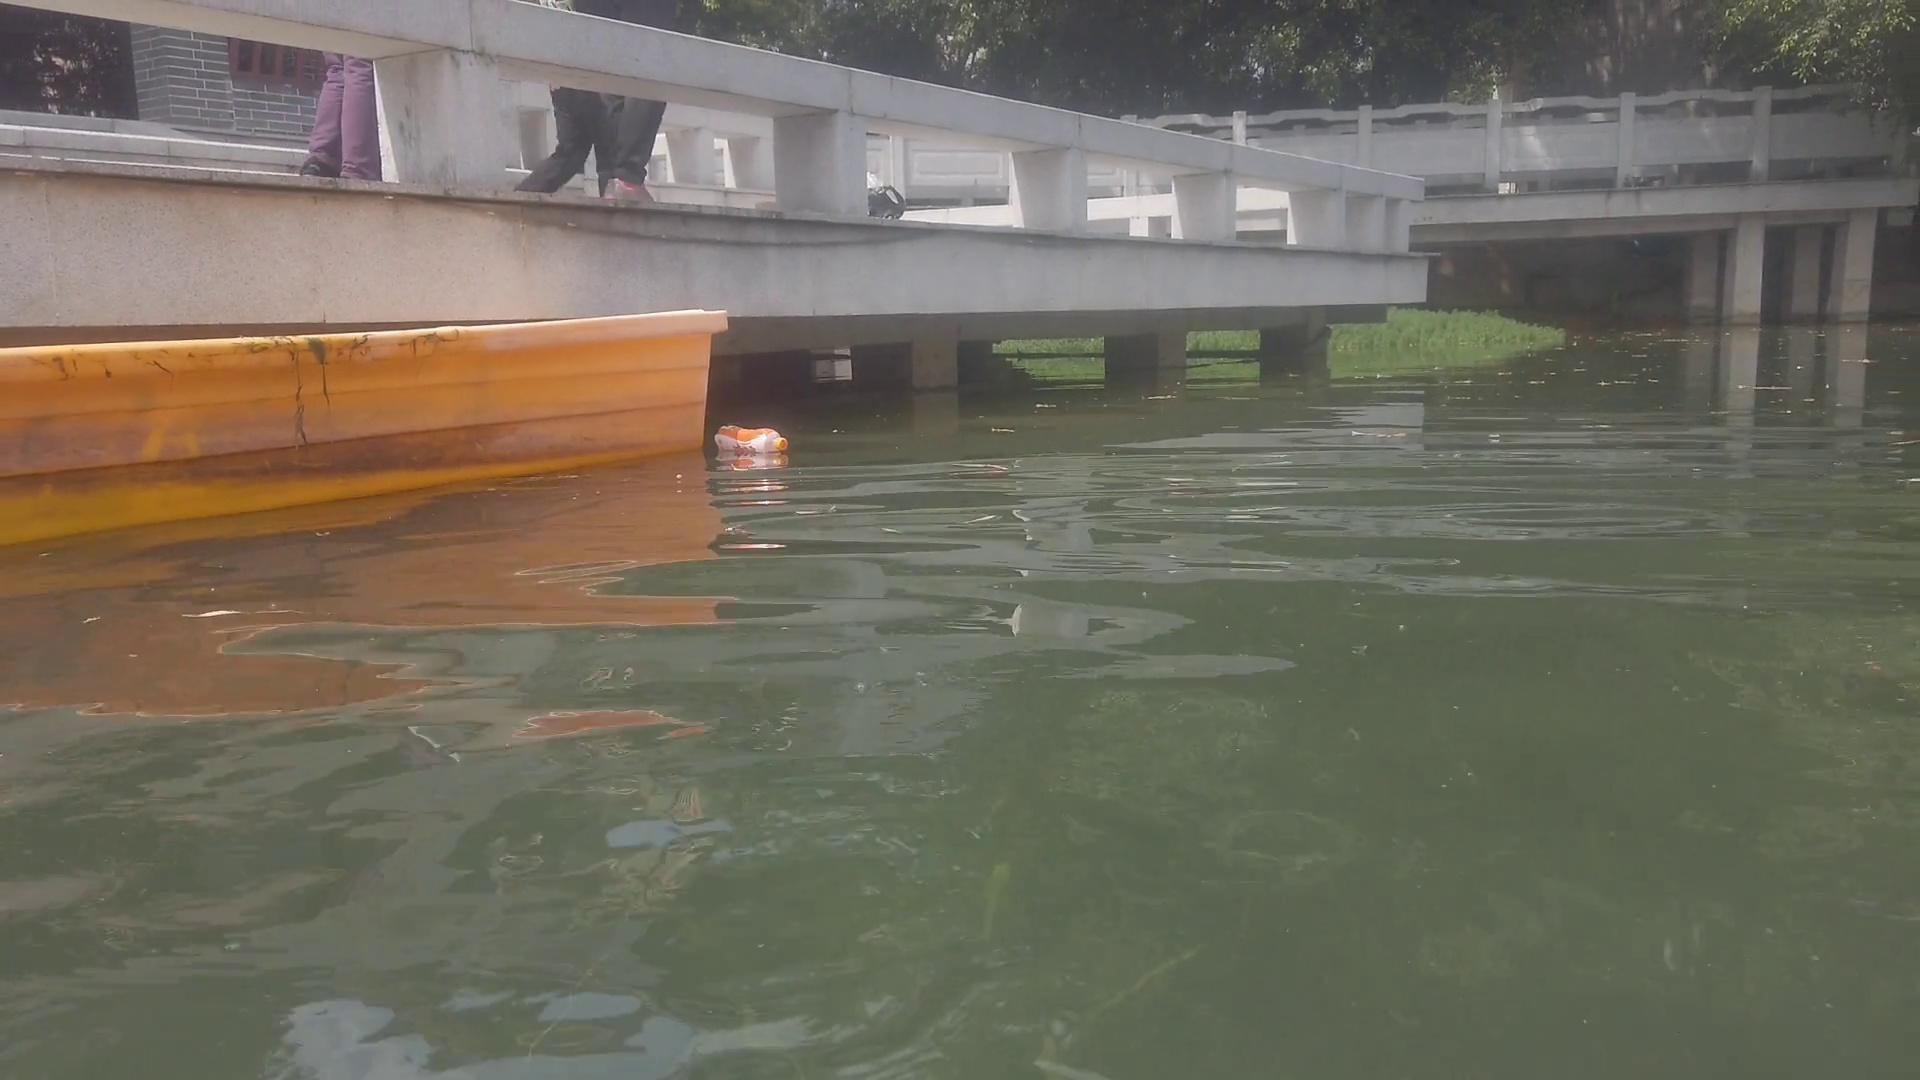bottle: (713, 425, 789, 448)
